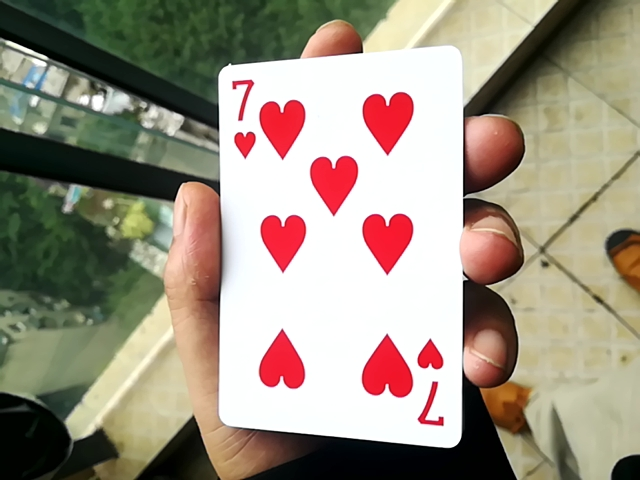hx 7: (214, 28, 450, 447)
